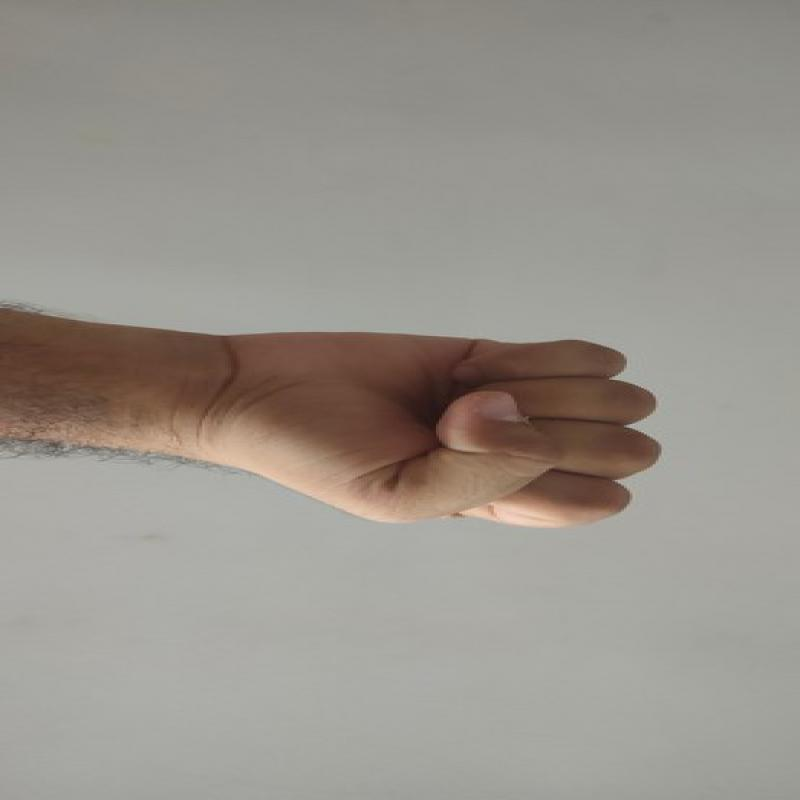Mushti: (190, 314, 686, 551)
